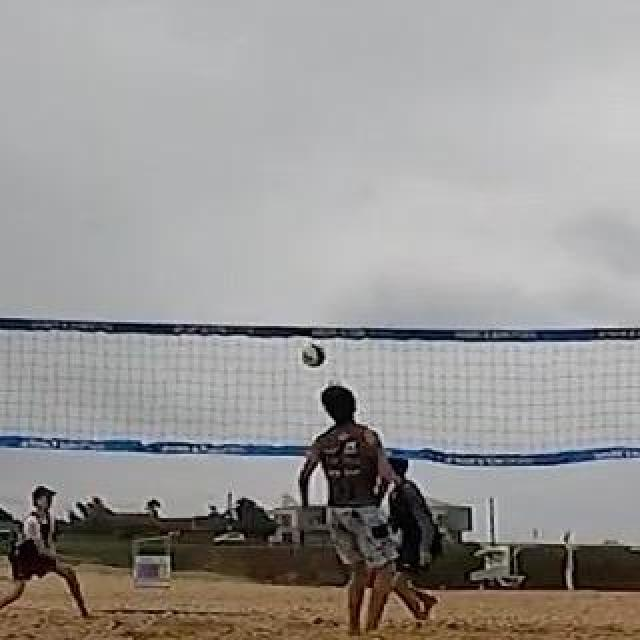volleyball: (299, 344, 323, 368)
